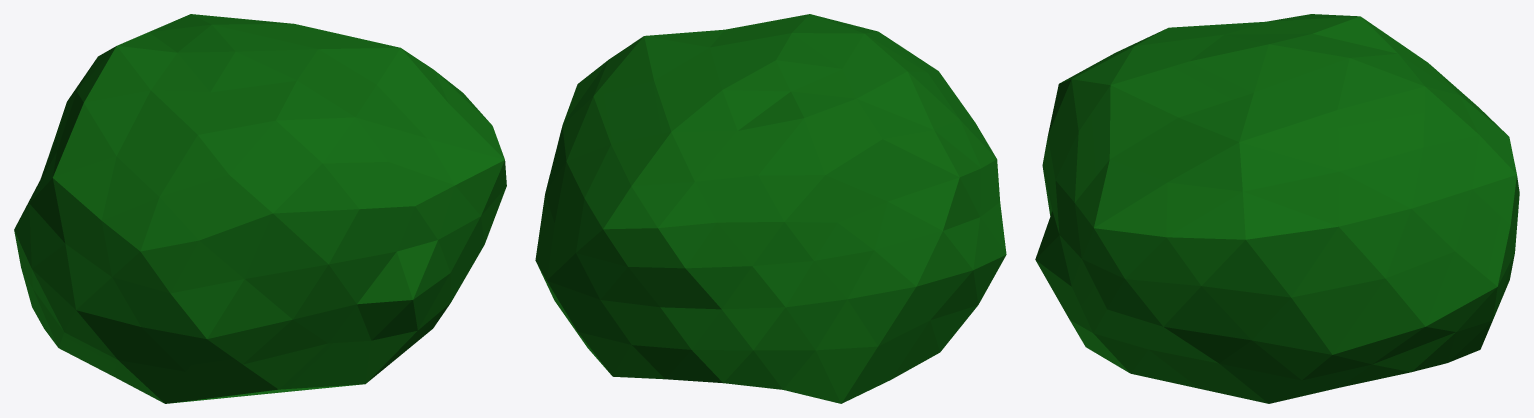
The model's file is bushlarge.fbx.
3 views of the same model, side by side, from view 1: azimuth 30°, elevation 25°; view 2: azimuth 150°, elevation 25°; view 3: azimuth 270°, elevation 25° (orthographic). The views are drawn at different scales.
Parts seen in each view (by area): view 1: Icosphere; view 2: Icosphere; view 3: Icosphere.
Boxes of the visible parts, x1,y1,x2,y2 form: Icosphere: (14,14,506,403); Icosphere: (535,14,1006,403); Icosphere: (1035,14,1519,403).
Size of the model in its own units: 3.96 by 2.49 by 3.86.
